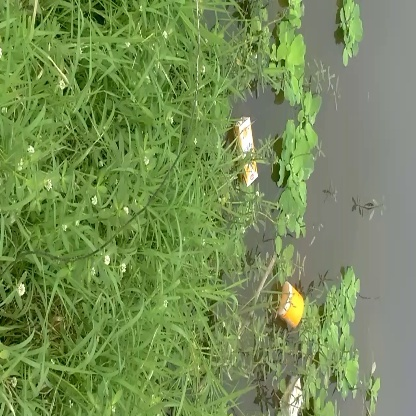milk-box: (229, 111, 264, 191)
